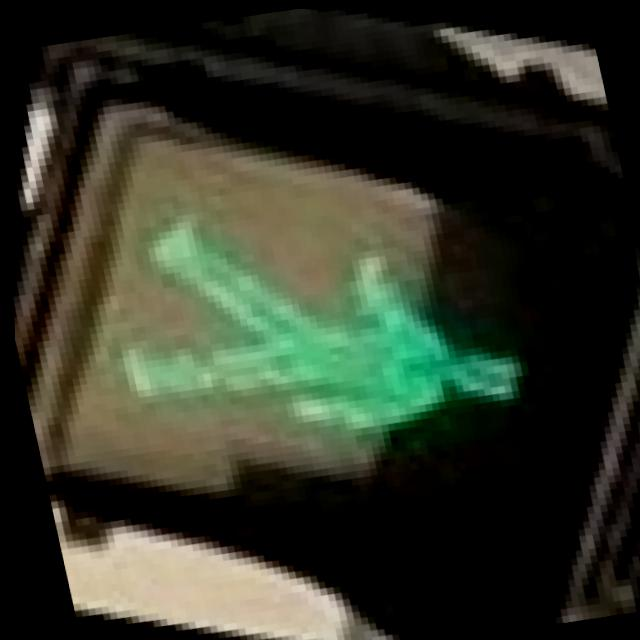green_light: (58, 98, 620, 568)
